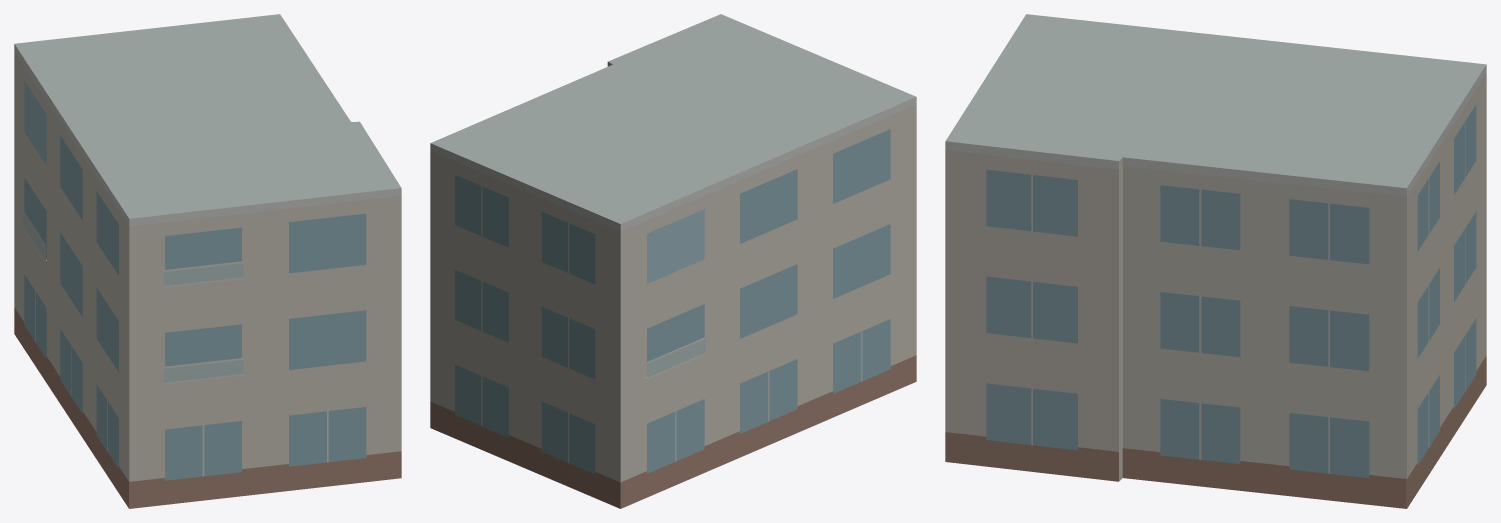
Rendered from survey-upis-32479447.glb.
The picture shows the model from 3 angles, left to right: view 1: azimuth 30°, elevation 25°; view 2: azimuth 150°, elevation 25°; view 3: azimuth 270°, elevation 25°; orthographic projection. The views are drawn at different scales.
Visible parts, largest first — view 1: survey-upis-32479447.tmp; view 2: survey-upis-32479447.tmp; view 3: survey-upis-32479447.tmp.
Boxes of the visible parts, <box> form: survey-upis-32479447.tmp: <box>14,14,401,508</box>; survey-upis-32479447.tmp: <box>430,14,916,508</box>; survey-upis-32479447.tmp: <box>945,14,1486,508</box>.
Bounding box in the file's own units: 10.67 × 9.15 × 14.01.
